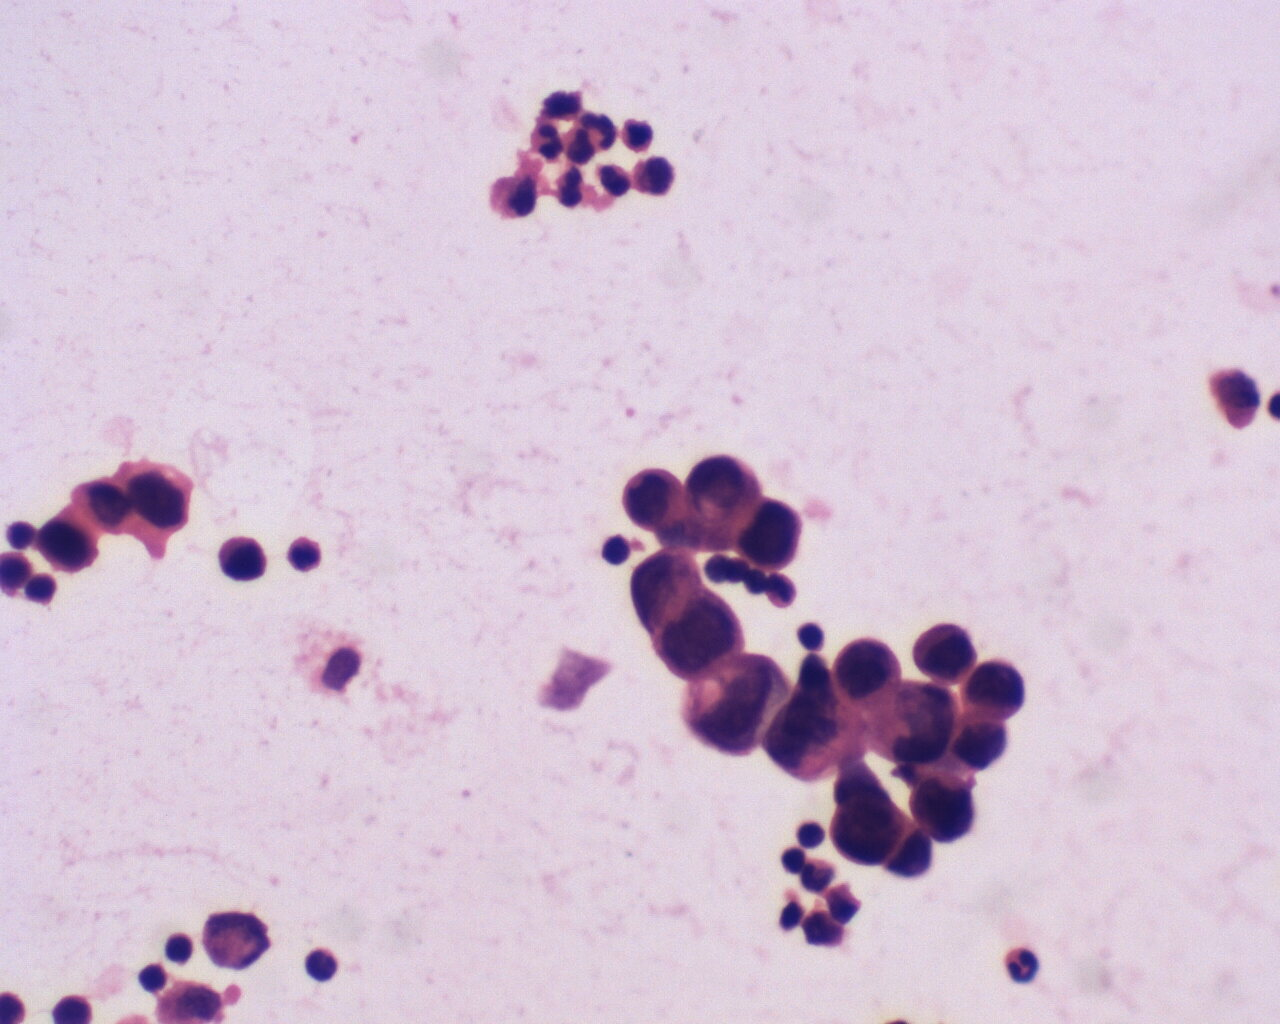ab: (679, 654, 786, 758), (766, 688, 868, 782), (650, 584, 748, 678), (830, 777, 908, 865), (908, 773, 981, 847), (623, 465, 694, 540), (835, 635, 904, 712), (33, 506, 102, 578), (741, 494, 806, 571), (963, 653, 1031, 722), (910, 618, 976, 686), (213, 530, 271, 583)
lymph: (597, 530, 639, 568), (160, 928, 196, 968)
neutro: (997, 935, 1043, 984), (523, 118, 571, 162)
